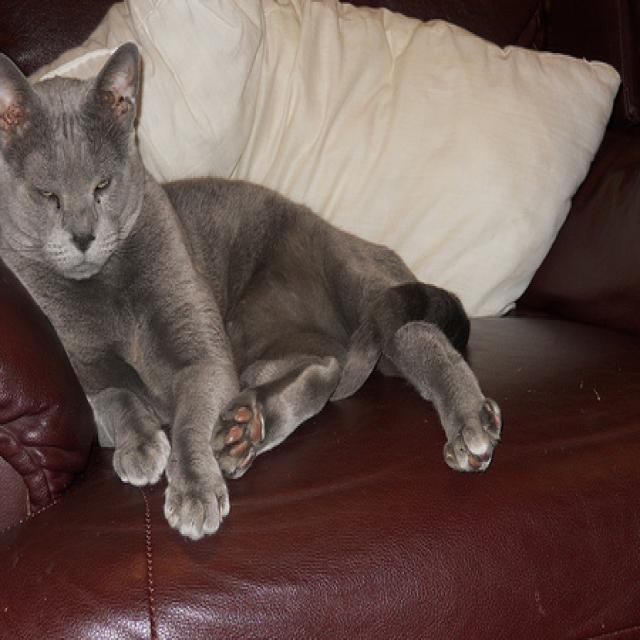Russian Blue: (0, 37, 503, 547)
